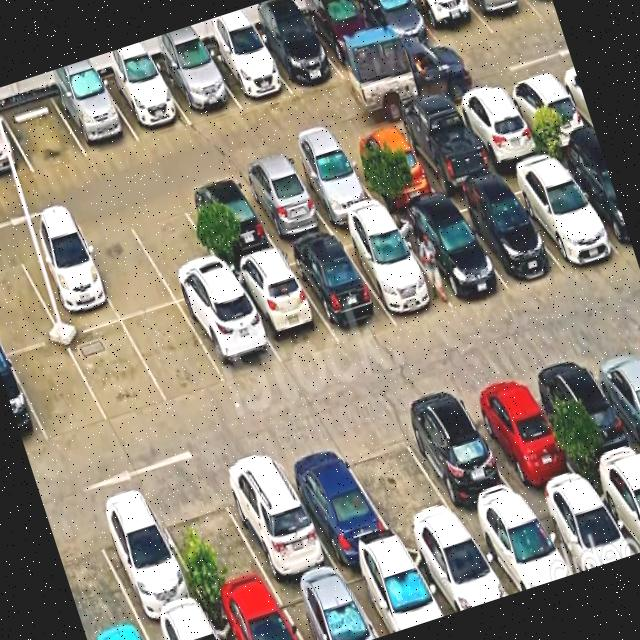empty: (148, 475, 275, 610), (334, 416, 464, 544), (50, 511, 142, 640), (125, 196, 231, 303), (74, 216, 176, 320), (66, 321, 169, 423), (123, 304, 227, 404), (8, 340, 108, 443), (0, 94, 88, 173), (0, 249, 61, 355)
occupied: (393, 392, 528, 527), (212, 449, 338, 588), (457, 372, 587, 505), (85, 492, 208, 629), (273, 435, 398, 567), (529, 351, 640, 482), (501, 160, 621, 269), (392, 203, 509, 309), (229, 254, 339, 366), (445, 184, 561, 289), (284, 236, 396, 344), (337, 220, 453, 323), (15, 232, 120, 338), (180, 287, 283, 384), (393, 107, 497, 195), (179, 178, 279, 269), (341, 549, 444, 637), (469, 508, 573, 595), (530, 488, 635, 574), (406, 531, 508, 616), (555, 146, 634, 254), (234, 161, 332, 248), (285, 144, 383, 229), (340, 126, 440, 208), (451, 88, 547, 170), (501, 71, 596, 152), (302, 0, 394, 80), (252, 16, 344, 94), (274, 572, 379, 640), (101, 66, 191, 142), (51, 80, 139, 157), (203, 36, 292, 108), (581, 336, 640, 441), (156, 51, 240, 124), (352, 0, 444, 64), (0, 352, 49, 451), (406, 0, 494, 52), (209, 592, 301, 640), (592, 467, 640, 553), (467, 0, 543, 33), (0, 111, 34, 183), (146, 612, 222, 640)
